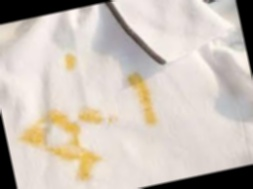mustard: (130, 68, 159, 128), (73, 149, 102, 185), (38, 143, 78, 166), (76, 108, 110, 133), (18, 122, 48, 148), (62, 129, 87, 157), (45, 108, 74, 132), (60, 49, 81, 80)
